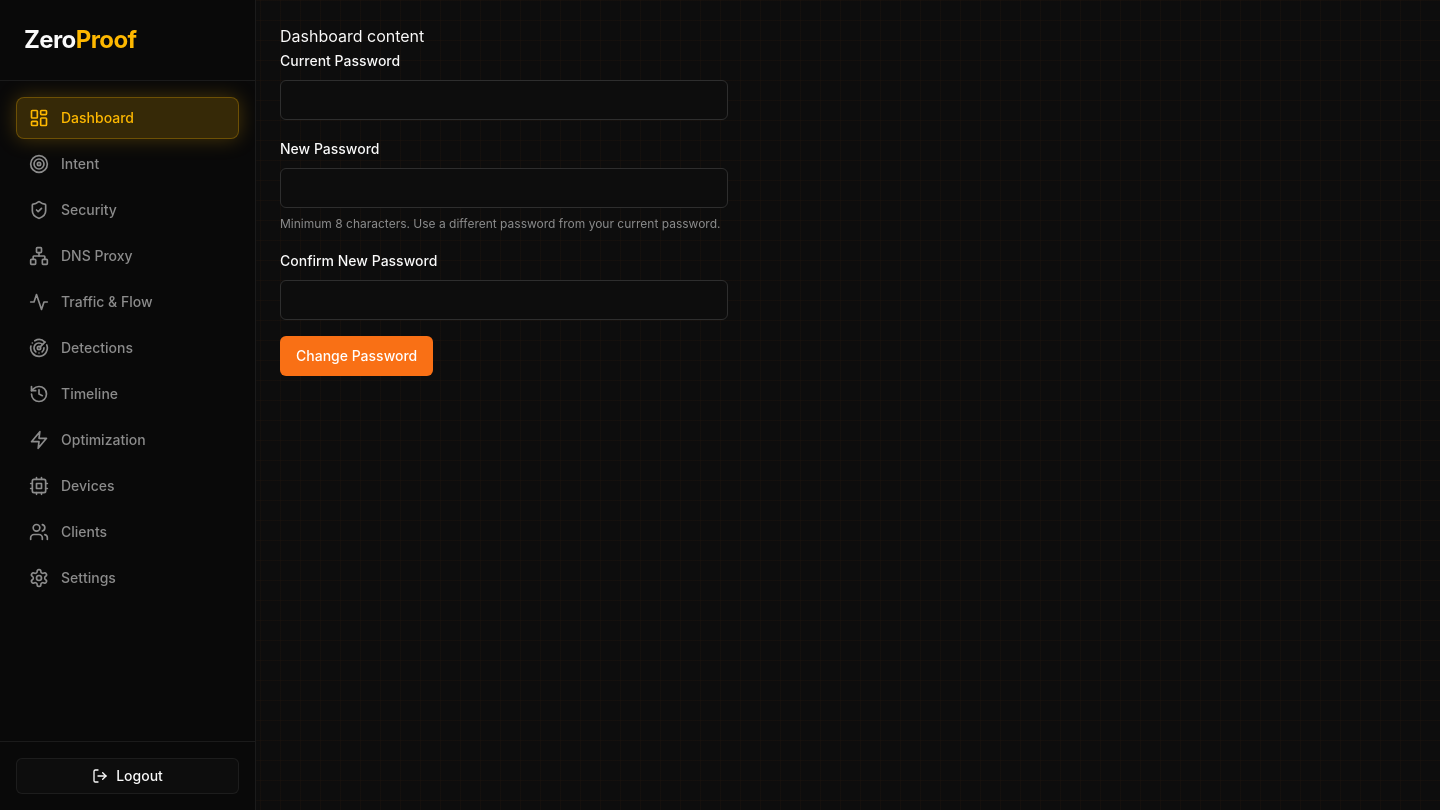
Layout session lifecycle › blocks password submission while logout is pending and preserves its result (success=false)
Type "current-password" into the password field labelled "Current Password" at (504, 100), box x1=280 y1=80 x2=728 y2=120
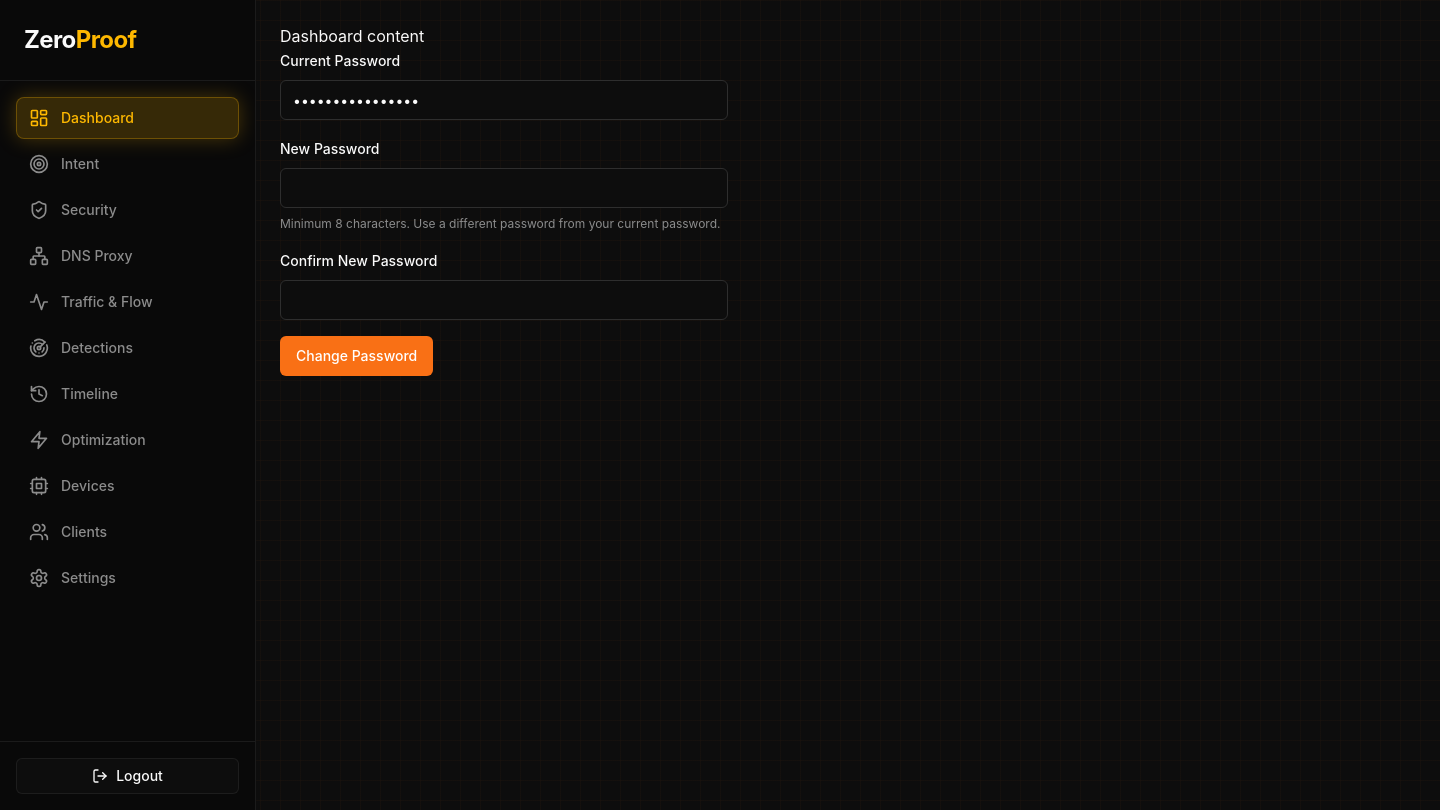
Type "replacement-password" into the password field labelled "New Password" at (504, 188), box x1=280 y1=168 x2=728 y2=208
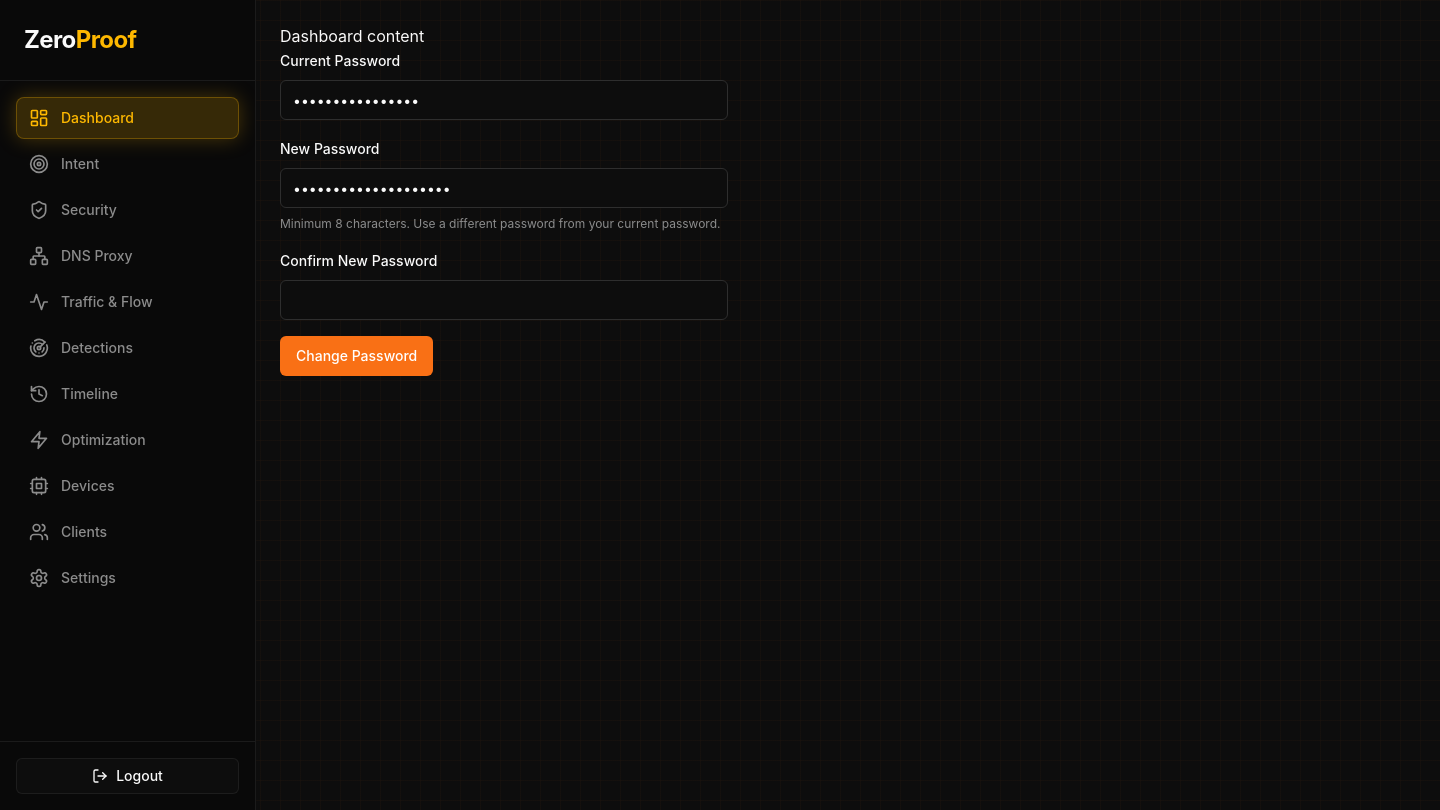
Type "replacement-password" into the password field labelled "Confirm New Password" at (504, 300), box x1=280 y1=280 x2=728 y2=320
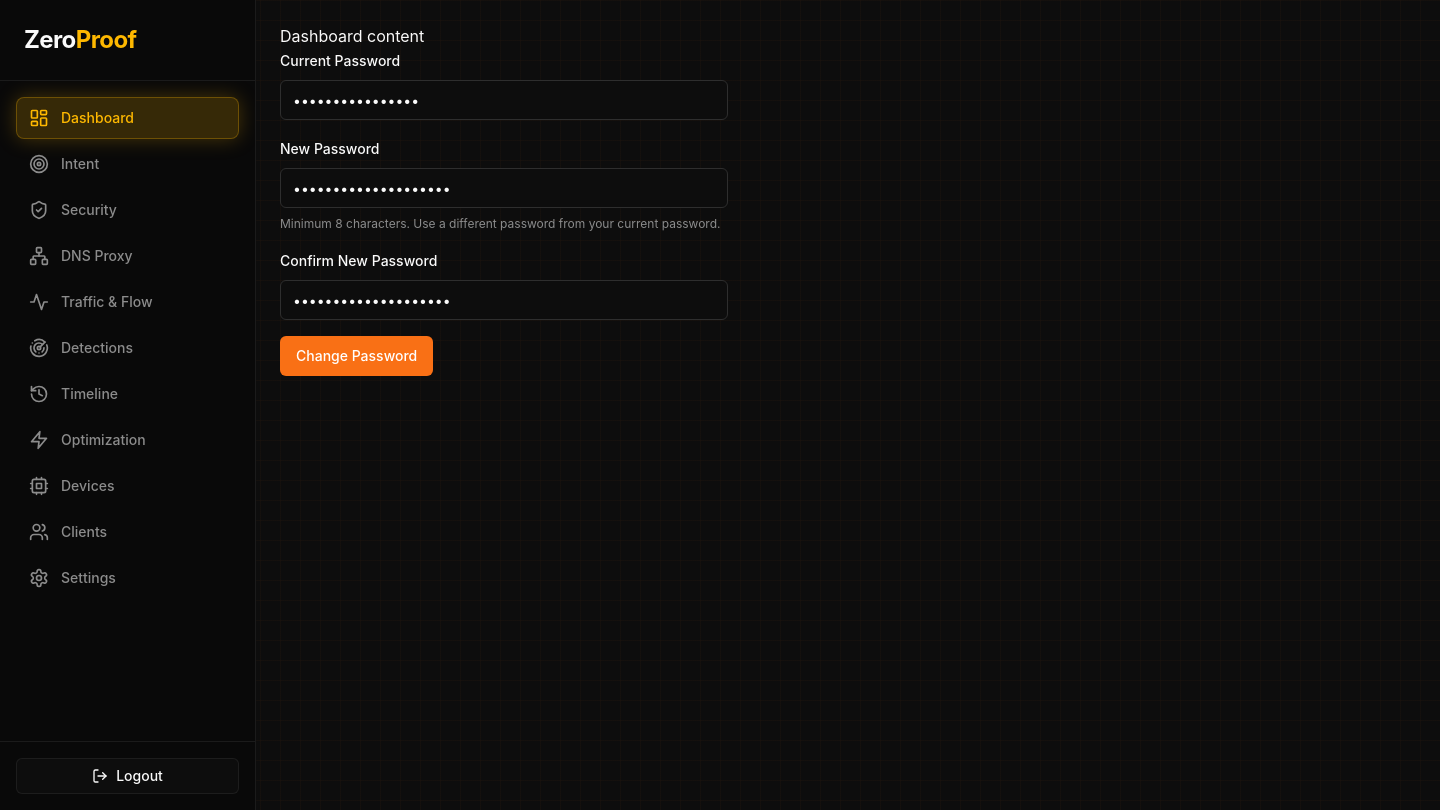
Click the button "Logout" at (128, 776), box x1=16 y1=758 x2=239 y2=794
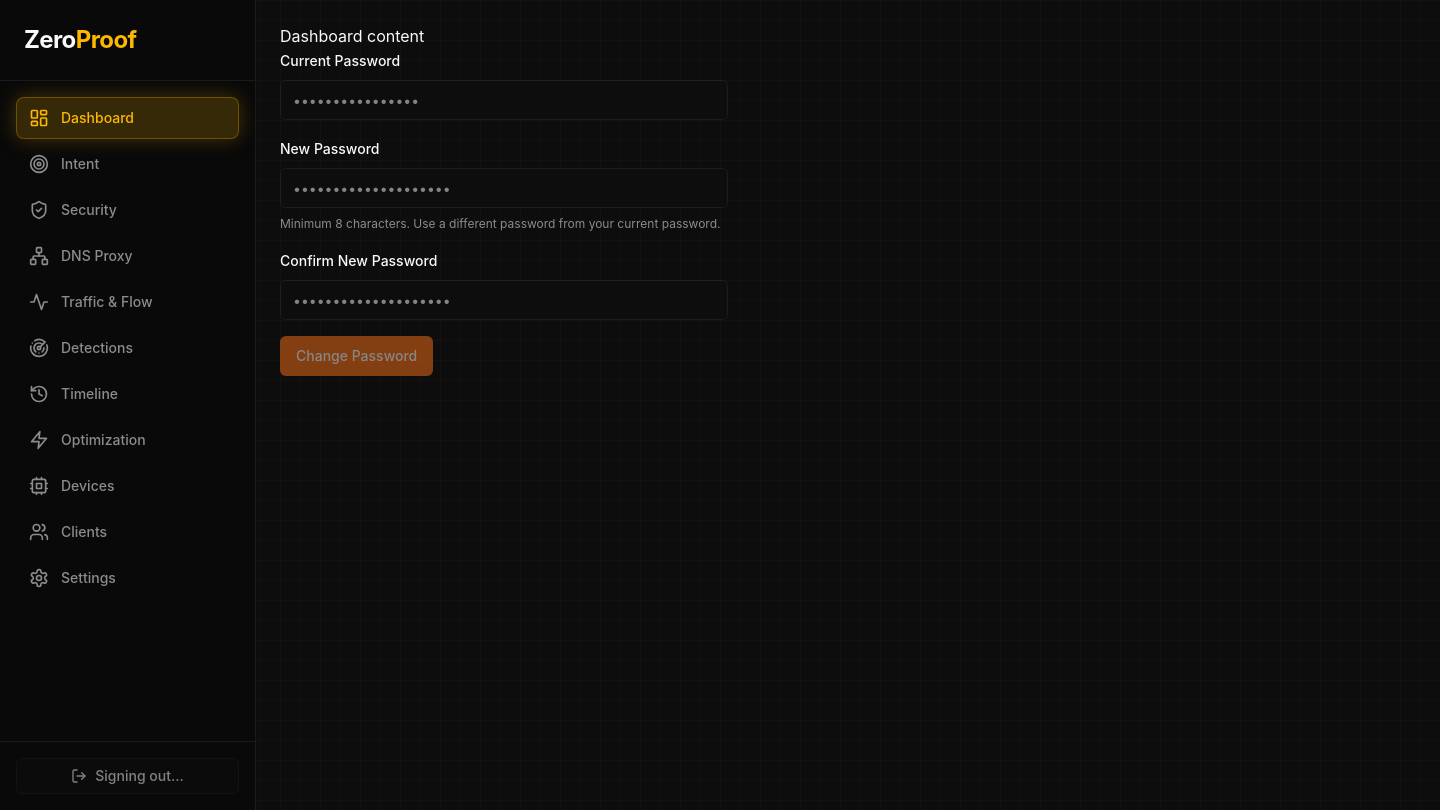
Result: the button "Change Password" is disabled at x1=280 y1=336 x2=433 y2=376
Submit the form named "Change Password", box x1=280 y1=48 x2=728 y2=376
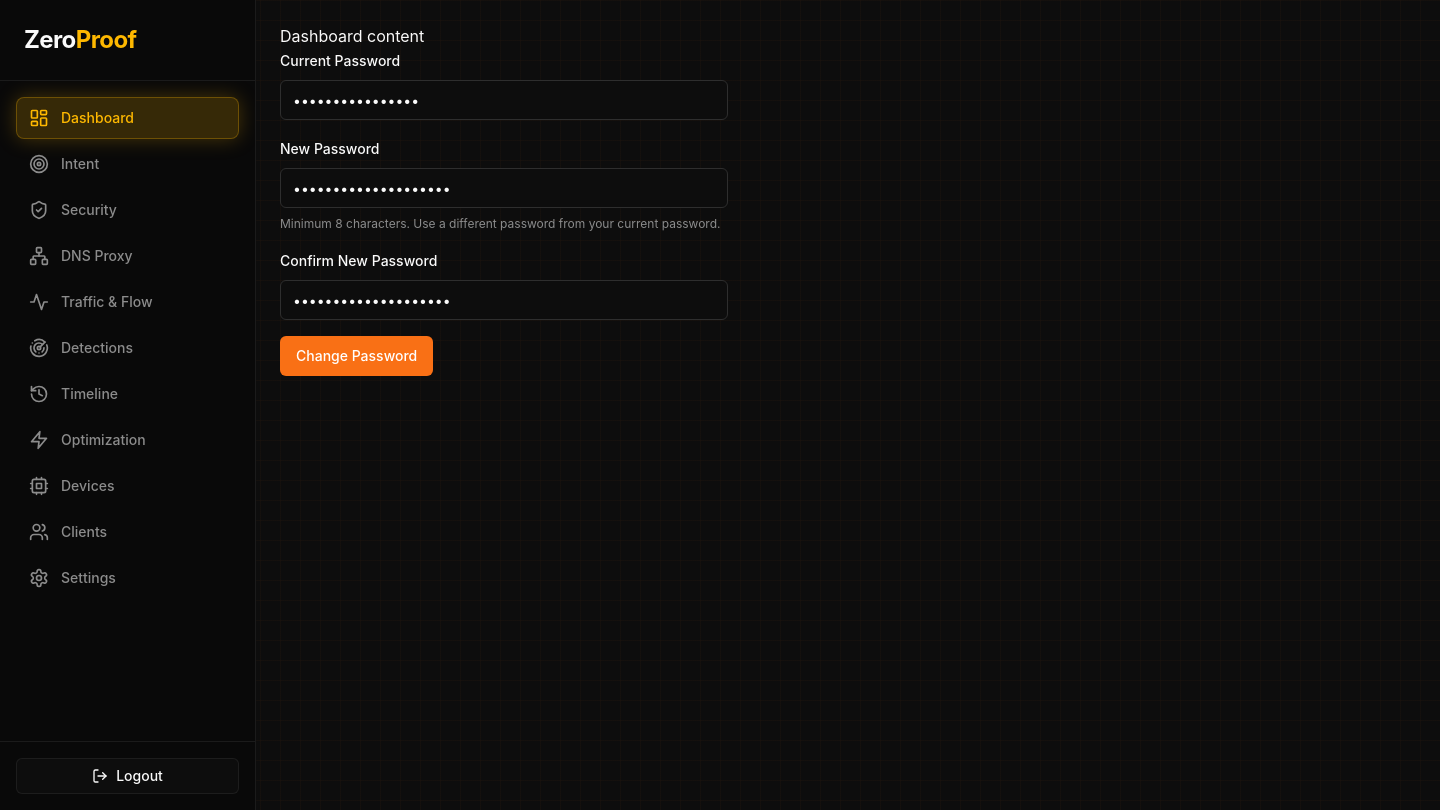
Result: the button "Change Password" is enabled at x1=280 y1=336 x2=433 y2=376
